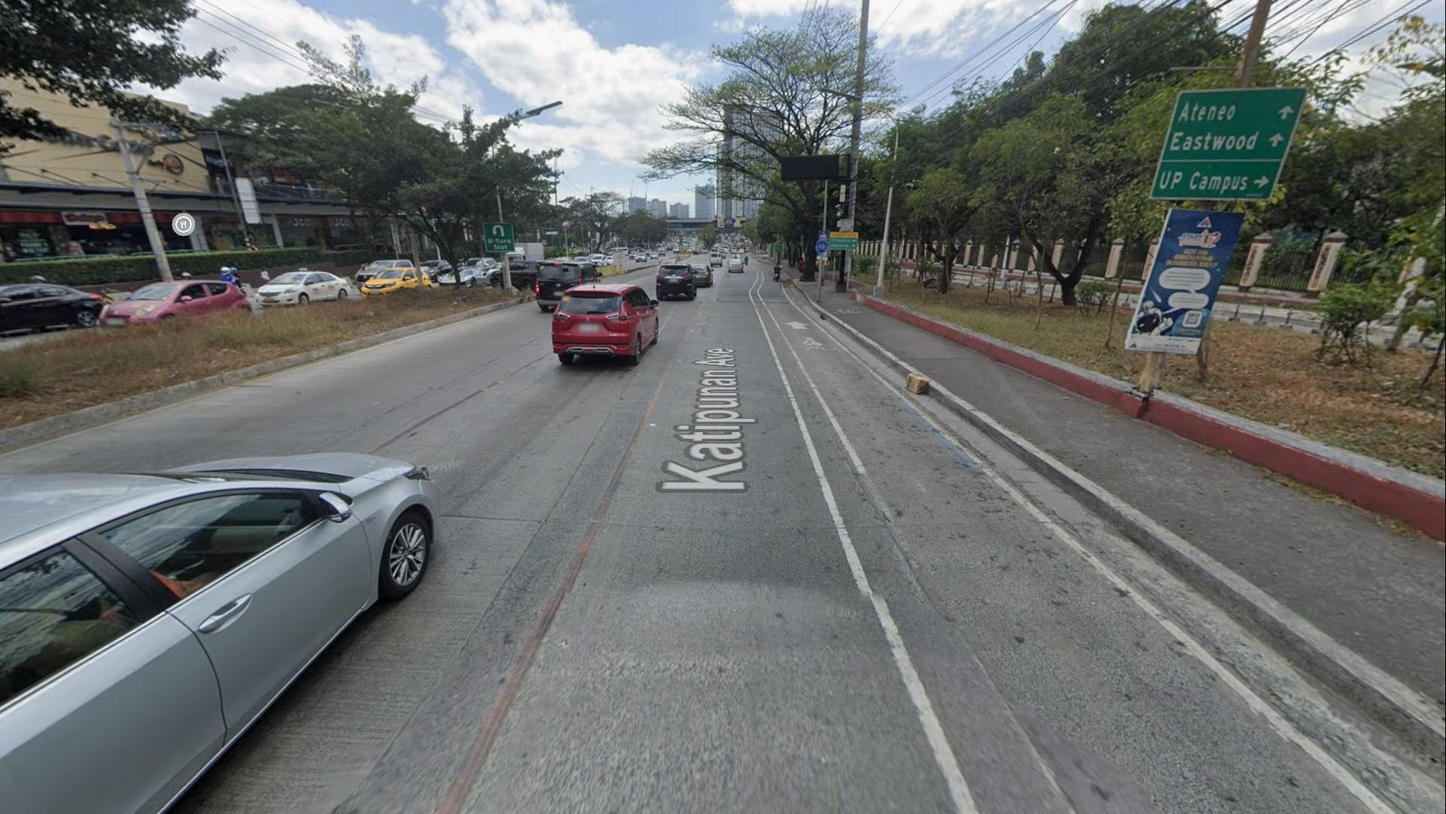pedestrian: (798, 257, 808, 280)
